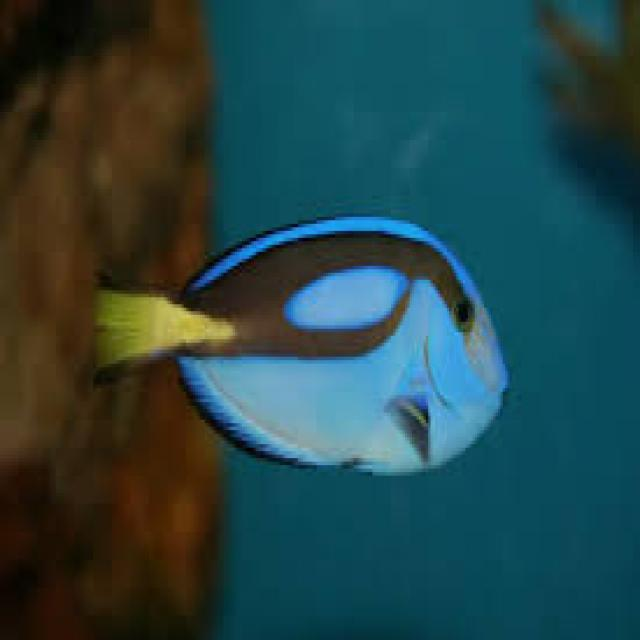YellowTang: (90, 203, 520, 492)
